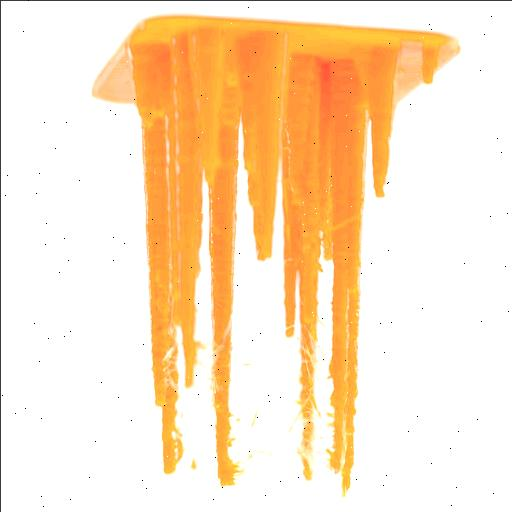stringing: (162, 296, 348, 490)
